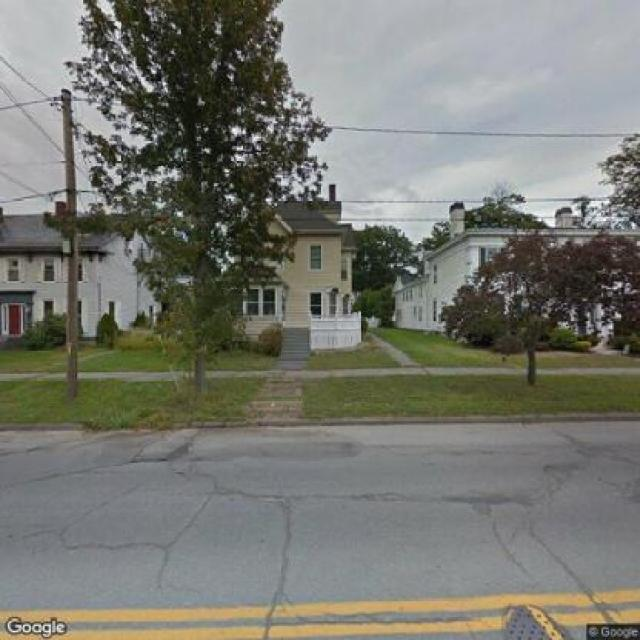pole: (41, 84, 96, 399)
